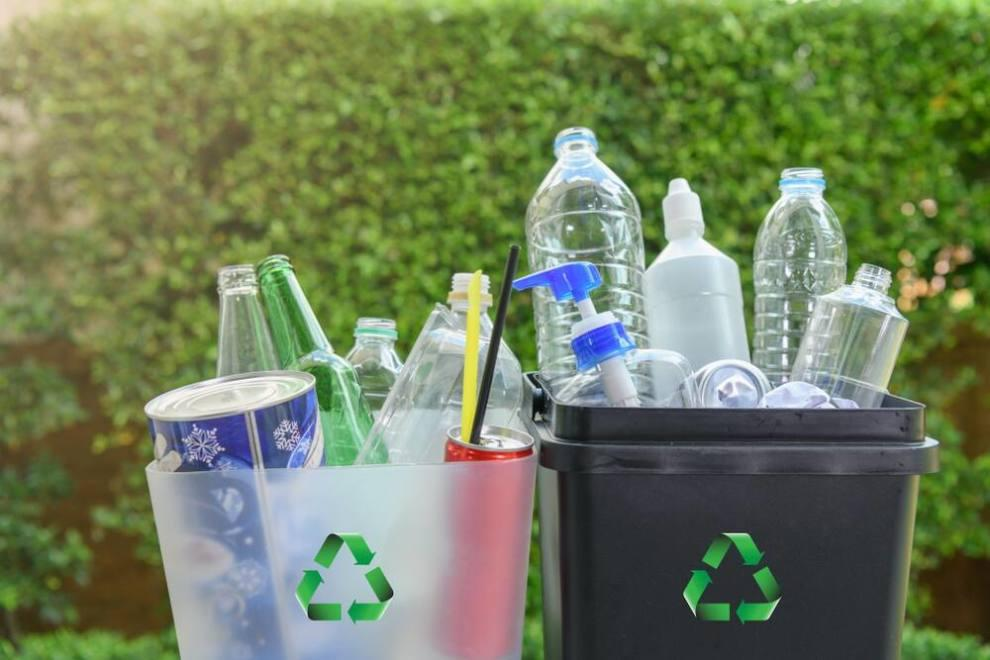HDPE: (516, 261, 630, 364), (661, 177, 704, 235)
LDPE: (641, 236, 750, 363)
PETE: (525, 124, 648, 393), (755, 163, 848, 386), (791, 259, 908, 412)
